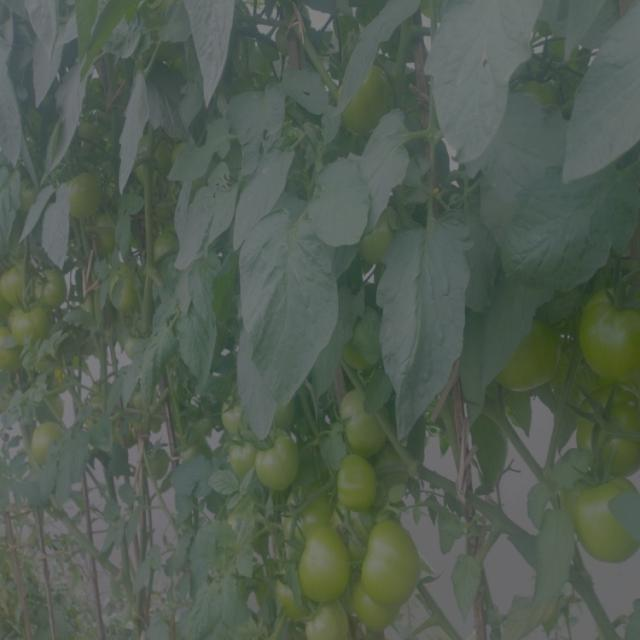tomato: (354, 522, 416, 622), (564, 477, 640, 558), (571, 389, 640, 470), (496, 322, 564, 399), (290, 521, 352, 603), (586, 290, 640, 381), (340, 64, 391, 129), (345, 395, 396, 457), (257, 435, 302, 492), (333, 461, 382, 511), (5, 310, 47, 361), (64, 173, 102, 222), (302, 607, 351, 640), (360, 216, 398, 258), (138, 138, 172, 180), (111, 270, 141, 314), (3, 254, 28, 303), (228, 442, 255, 482), (36, 269, 67, 302), (33, 423, 60, 459), (218, 391, 241, 432), (523, 78, 560, 102), (155, 227, 181, 259), (145, 448, 166, 479), (347, 338, 365, 373), (94, 223, 114, 253), (263, 579, 285, 605), (125, 333, 145, 361), (130, 387, 151, 411), (18, 181, 32, 216), (51, 393, 67, 418), (79, 121, 100, 140), (277, 405, 296, 426), (177, 449, 193, 463)
